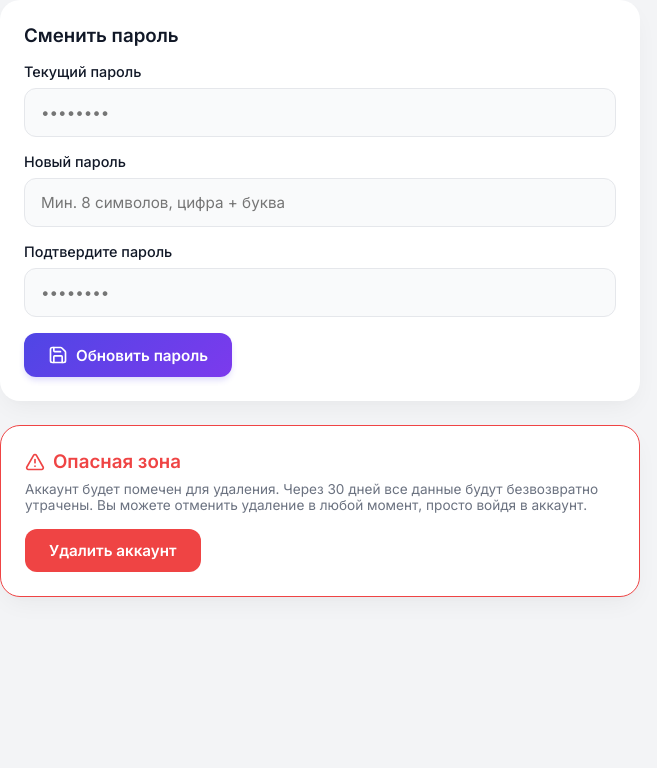
Test: SettingsSecurityPage › shows validation message on empty delete form submit
Click the button "Удалить аккаунт": (113, 550) [25, 529, 201, 572]
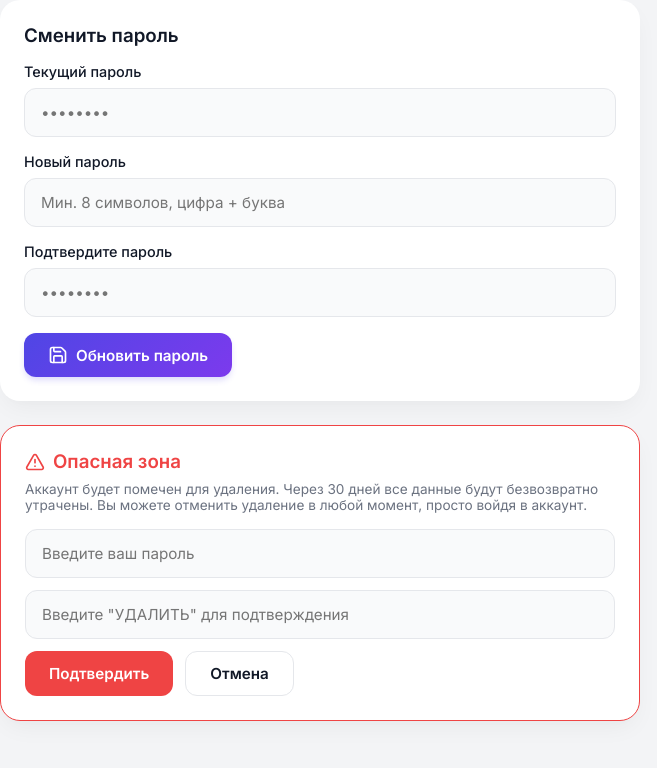
Click the button "Подтвердить": (99, 674) [25, 651, 173, 696]
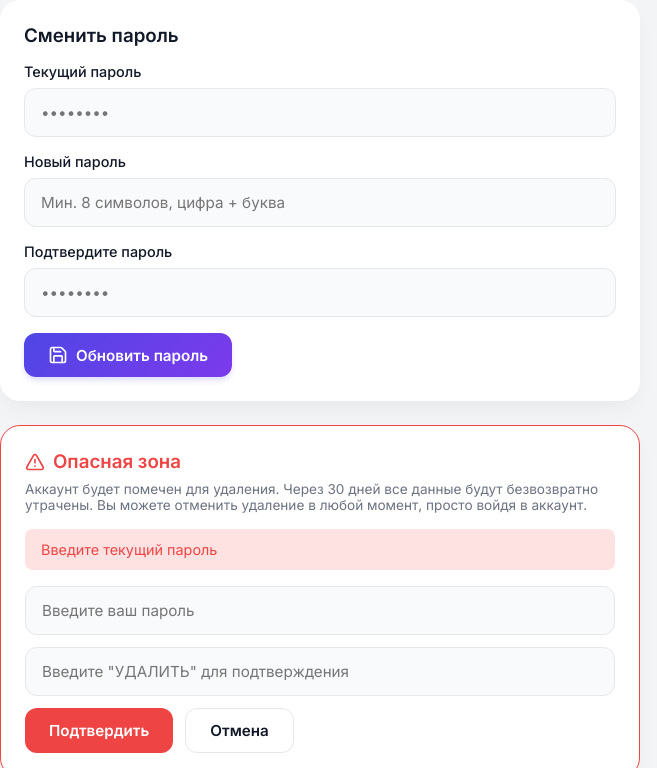
Check: the text "Введите текущий пароль" is shown, box [25, 529, 615, 570]
